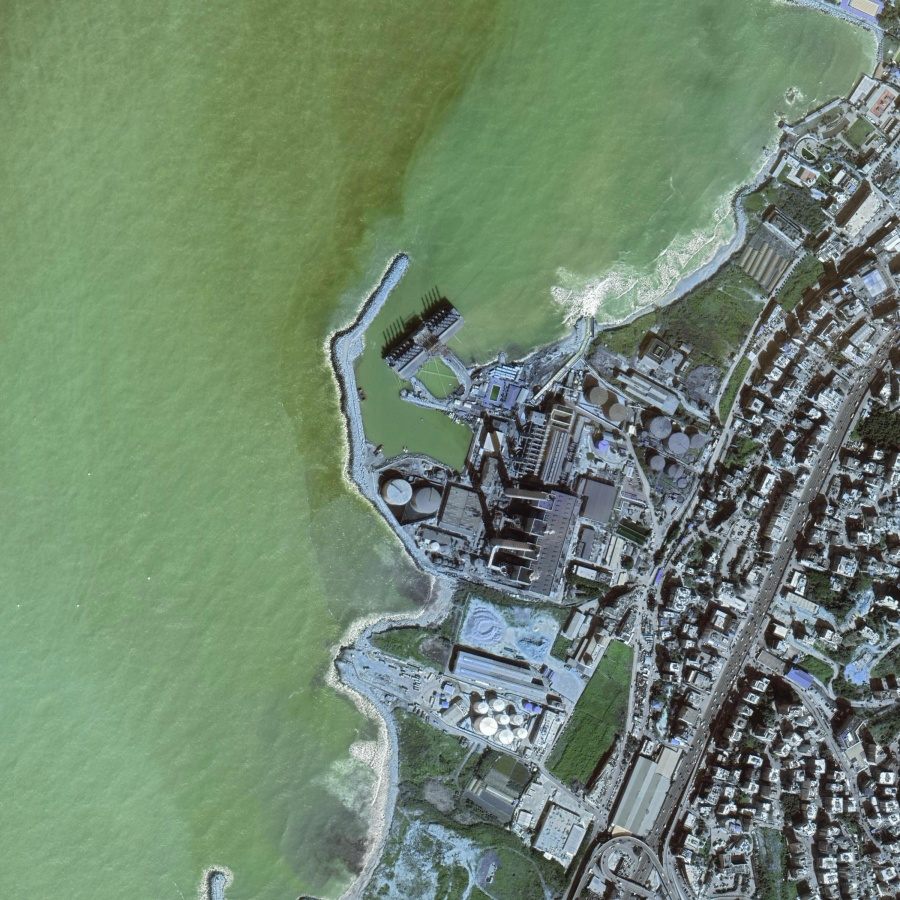PowerPlant: (370, 311, 715, 742)
